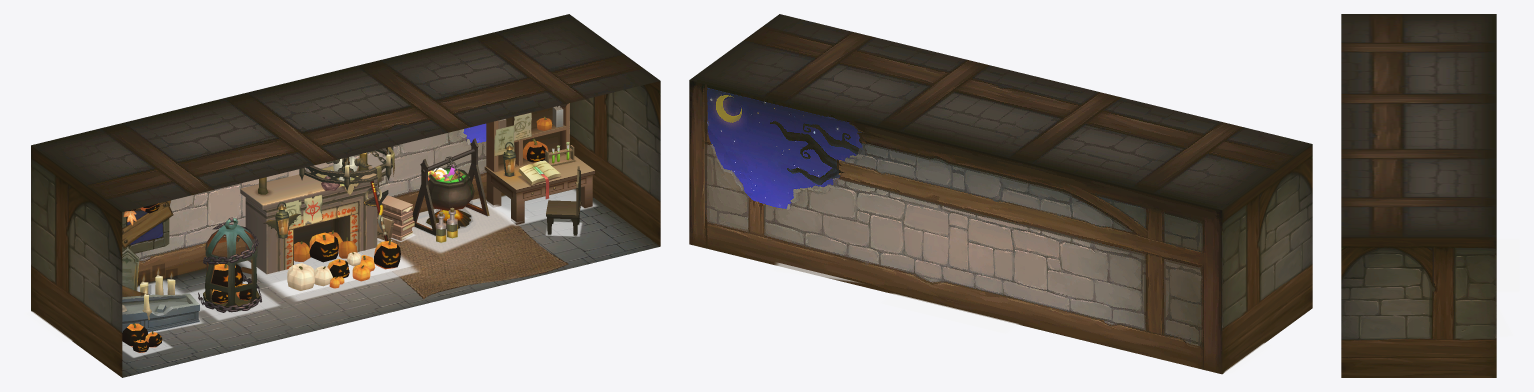
File: spirit.glb
The picture shows the model from 3 angles, left to right: view 1: azimuth 30°, elevation 25°; view 2: azimuth 150°, elevation 25°; view 3: azimuth 270°, elevation 25°; orthographic projection. The views are drawn at different scales.
Visible parts, largest first — view 1: ROOM_room, ROOM_floor, furni_spirit_fireplace_01, furni_spirit_carpet_01, furni_spirit_table_01, furni_spirit_tree_01, furni_spirit_crucible_01, shadow.005, furni_spirit_pumpkin_01, furni_spirit_window_01, shadow.001, ROOM_RDoor (+14 smaller); view 2: ROOM_room, shadow.003, ROOM_LDoor; view 3: ROOM_room, ROOM_RDoor, shadow.003, shadow.005.
Boxes of the visible parts, box(x1,y1,x2,y2) form: ROOM_room: box(31, 14, 660, 377); ROOM_floor: box(122, 189, 660, 377); furni_spirit_fireplace_01: box(240, 152, 388, 274); furni_spirit_carpet_01: box(360, 203, 568, 299); furni_spirit_table_01: box(484, 103, 594, 224); furni_spirit_tree_01: box(85, 141, 259, 332); furni_spirit_crucible_01: box(412, 138, 489, 242); shadow.005: box(403, 198, 527, 252); furni_spirit_pumpkin_01: box(287, 239, 397, 290); furni_spirit_window_01: box(122, 200, 173, 253); shadow.001: box(271, 258, 418, 301); ROOM_RDoor: box(628, 148, 647, 236); ROOM_room: box(689, 14, 1312, 374); shadow.003: box(879, 293, 1019, 333); ROOM_LDoor: box(1281, 244, 1299, 330); ROOM_room: box(1341, 14, 1496, 377); ROOM_RDoor: box(1364, 314, 1395, 377); shadow.003: box(1496, 238, 1519, 292); shadow.005: box(1496, 304, 1513, 337).
Bounding box in the file's own units: 7.71 × 2.2 × 2.53.
Materials: 9 (9 with a texture image).
